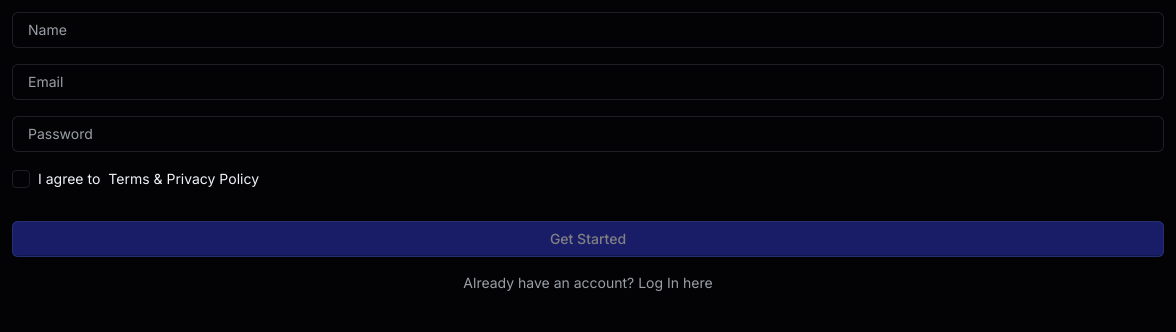
Test: RegisterForm › shows name validation error for short name after blur
This screenshot has width=1176, height=332.
Type "A" into the field labelled "Name".
click(588, 30); type("A")  # box [28,12,1148,48]
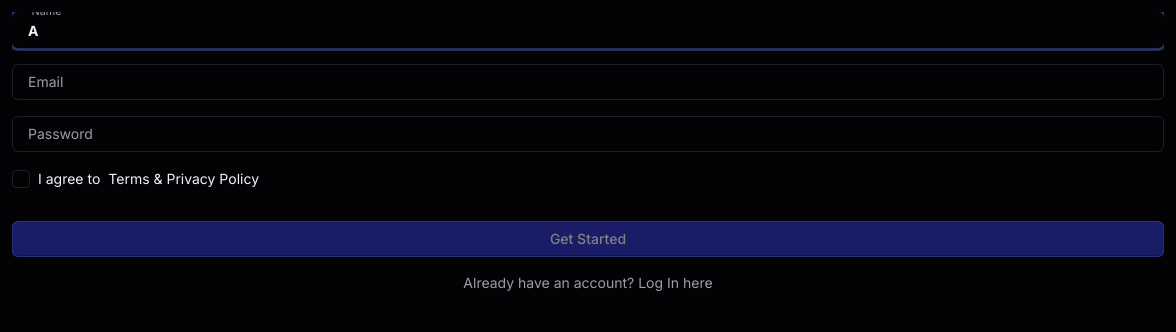
Press Tab
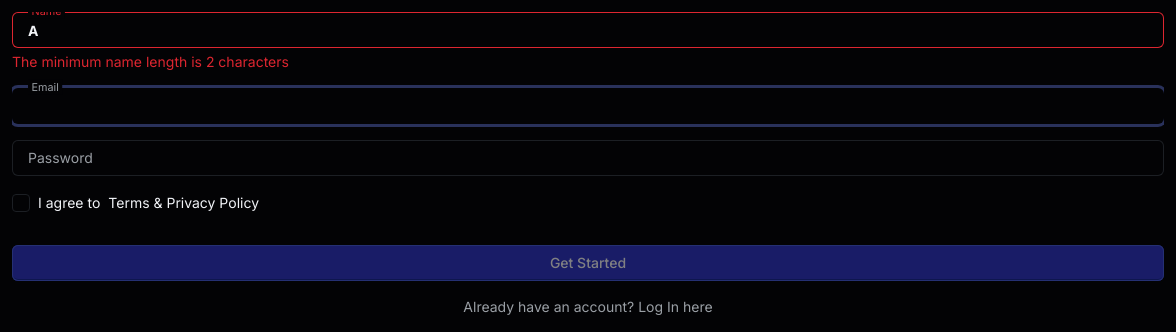
Now the text "The minimum name length is 2 characters" is shown, box [12,52,289,72]
